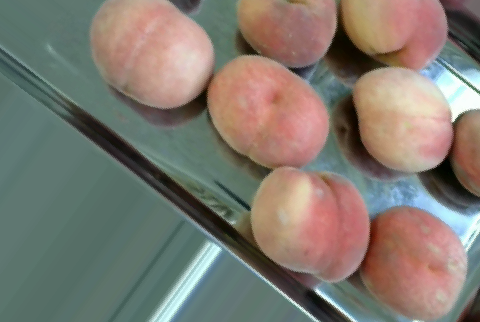Peach: (206, 54, 330, 167), (255, 168, 372, 281), (359, 203, 470, 320), (93, 0, 214, 107), (354, 68, 451, 171), (341, 1, 444, 68), (237, 0, 337, 67)
